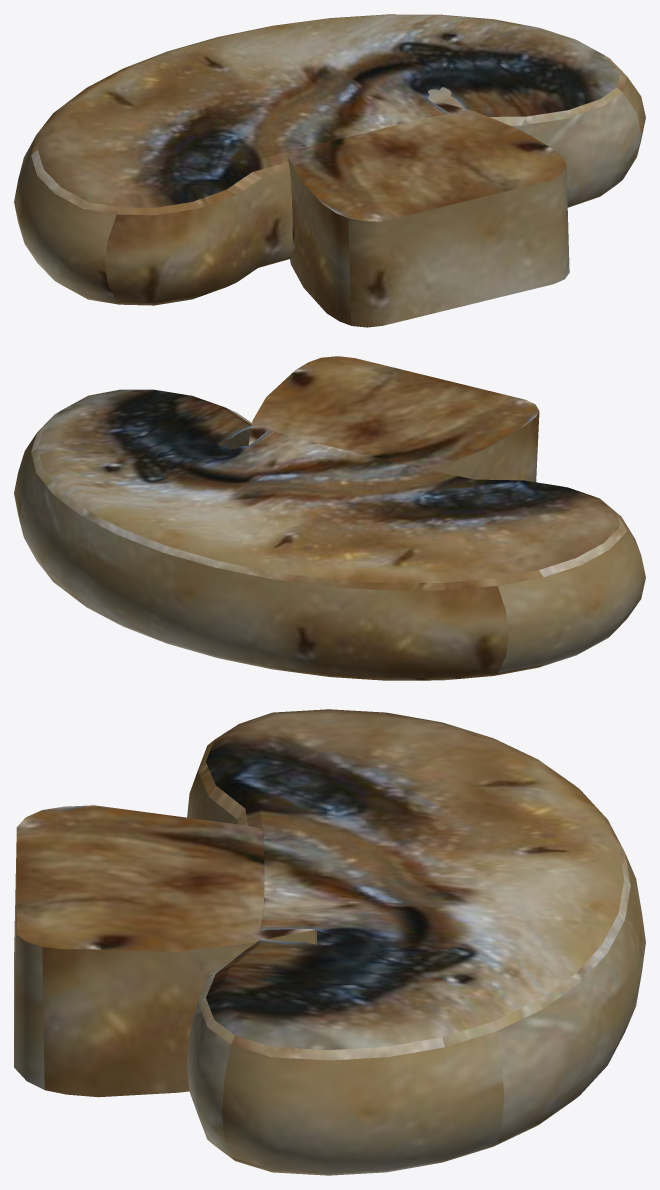
Rendered from slice_mushroom.fbx.
3 renders of one model, top to bottom at view 1: azimuth 30°, elevation 25°; view 2: azimuth 150°, elevation 25°; view 3: azimuth 270°, elevation 25°, orthographic. The views are drawn at different scales.
Visible parts, largest first — view 1: Mushroom; view 2: Mushroom; view 3: Mushroom.
Boxes of the visible parts, x1,y1,x2,y2 form: Mushroom: [14, 14, 645, 327]; Mushroom: [14, 356, 645, 680]; Mushroom: [14, 709, 645, 1175].
Bounding box in the file's own units: 446 × 81.04 × 322.
1 material, 1 textured.
